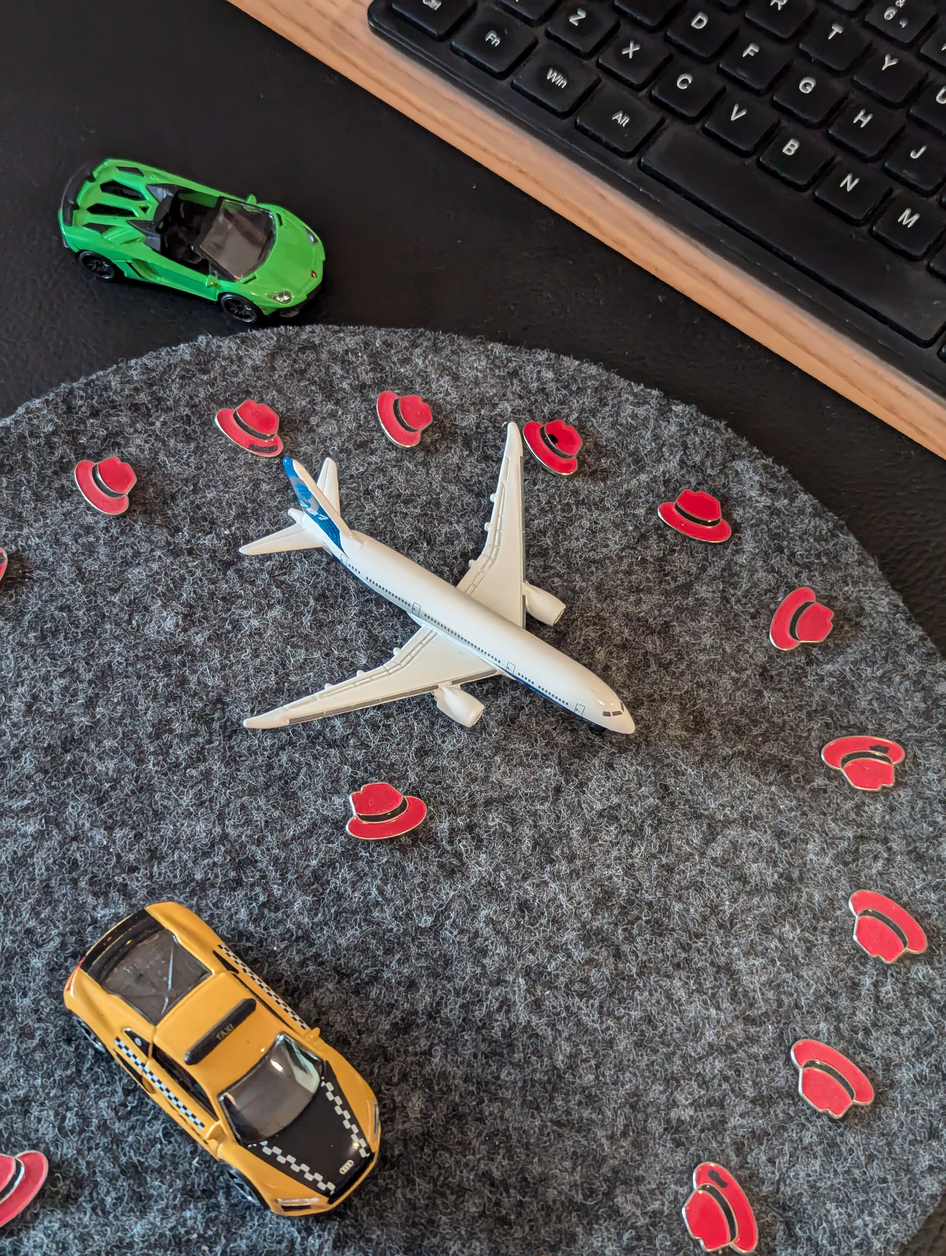Airplane: (189, 414, 674, 774)
Car: (28, 862, 465, 1236), (34, 117, 374, 338)
Red-Hat: (643, 1123, 786, 1256), (771, 1016, 913, 1143), (490, 379, 628, 499), (817, 859, 946, 982), (317, 753, 458, 858), (751, 566, 879, 677), (0, 1119, 95, 1235), (648, 450, 755, 552), (47, 437, 161, 530), (357, 366, 452, 475), (192, 382, 299, 470)
Scratch: (523, 413, 593, 457), (854, 724, 919, 763), (695, 1154, 745, 1201), (233, 428, 283, 460)
